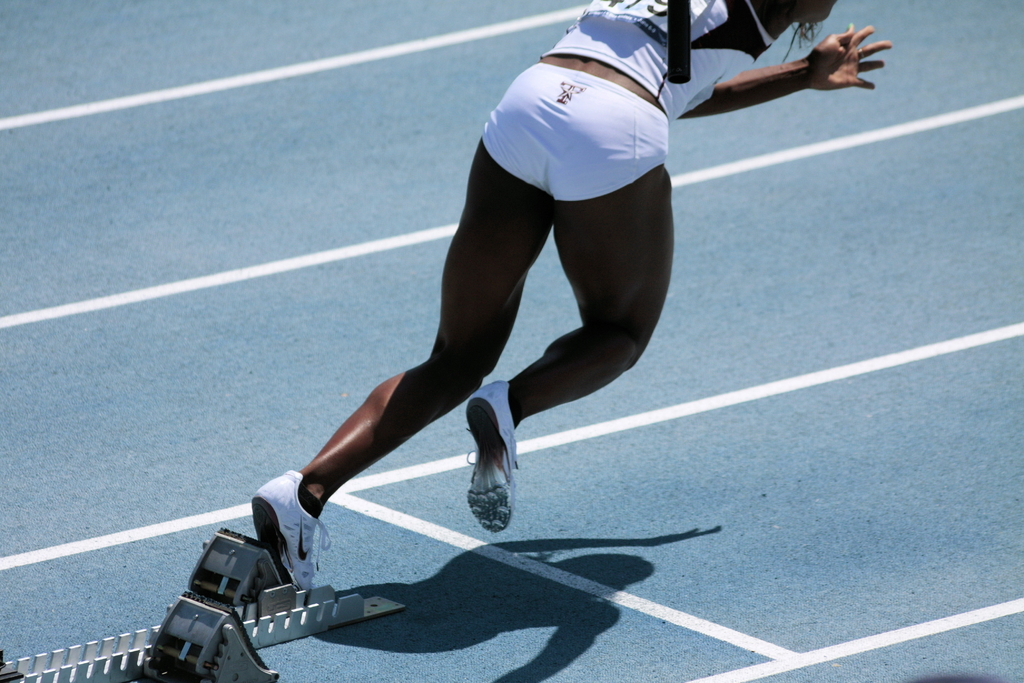Human_hand: (804, 24, 892, 90)
